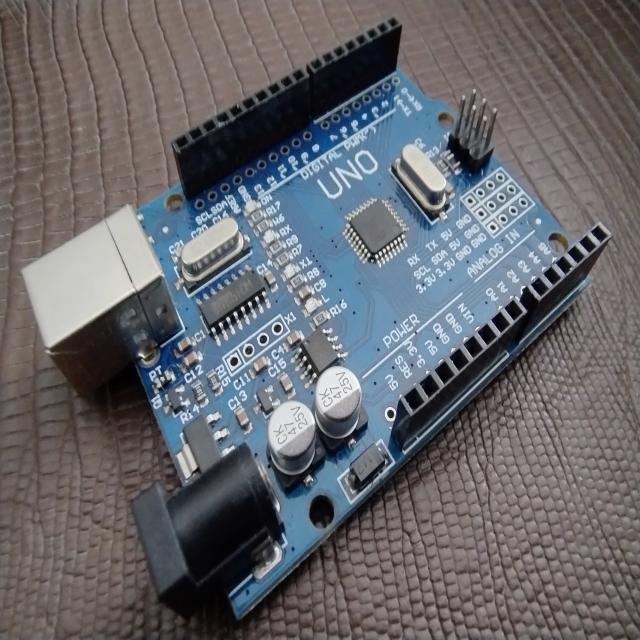arduino: (20, 16, 617, 626)
